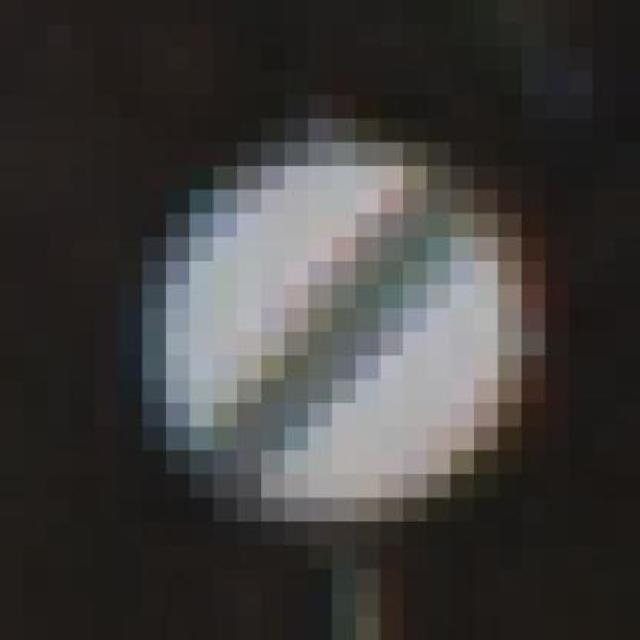End of all speed and passing limits: (94, 118, 568, 545)
